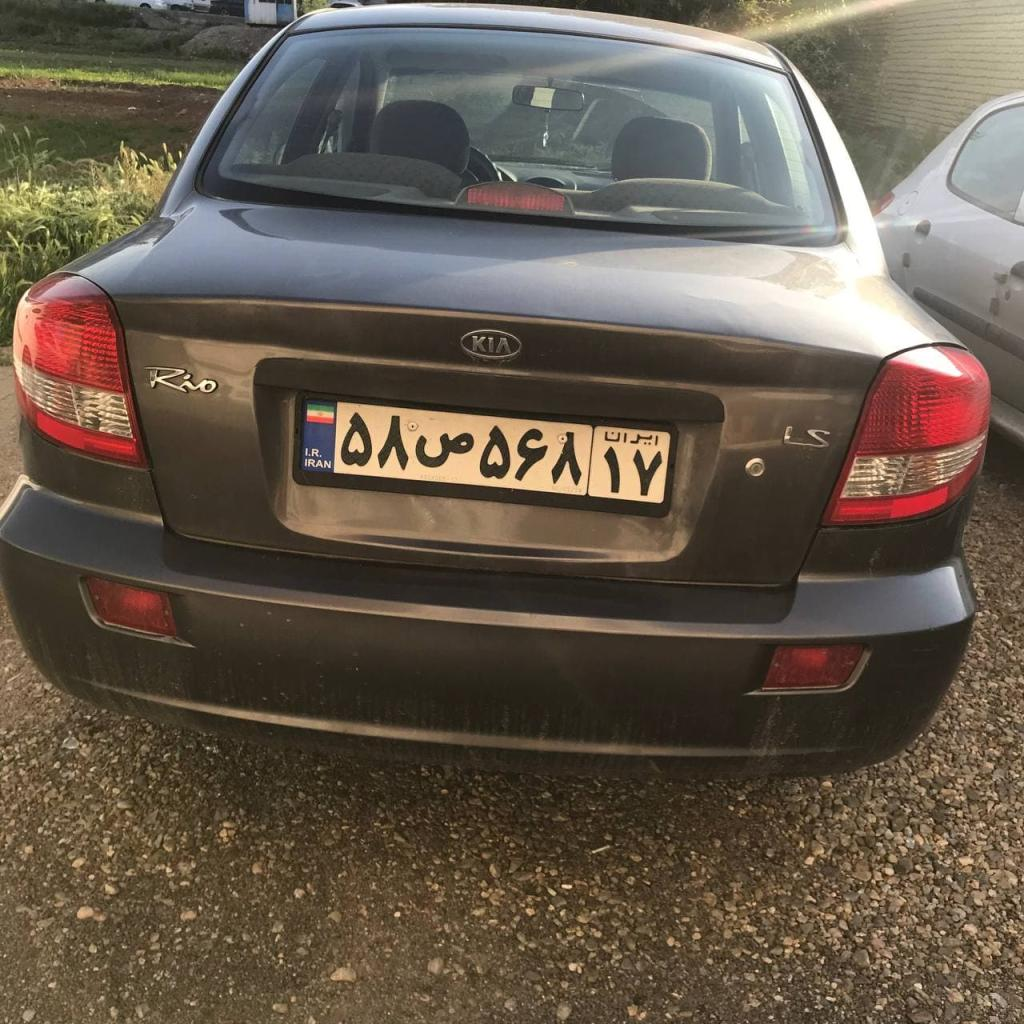Plates: (300, 399, 671, 504)
